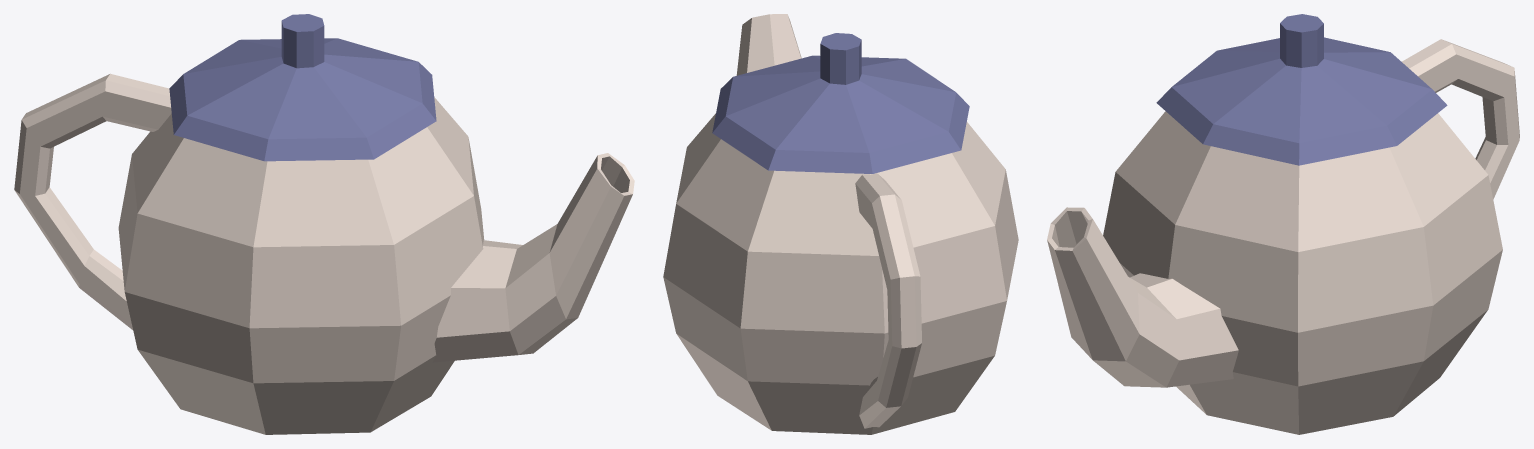
The model's file is Teapot.fbx.
3 views of the same model, side by side, from view 1: azimuth 30°, elevation 25°; view 2: azimuth 150°, elevation 25°; view 3: azimuth 270°, elevation 25° (orthographic). The views are drawn at different scales.
Visible parts, largest first — view 1: Teapot; view 2: Teapot; view 3: Teapot.
Part boxes in pixels (<box>): Teapot: <box>14,14,634,434</box>; Teapot: <box>663,14,1018,434</box>; Teapot: <box>1047,14,1519,434</box>.
Size of the model in its own units: 28.37 by 29.43 by 24.26.
